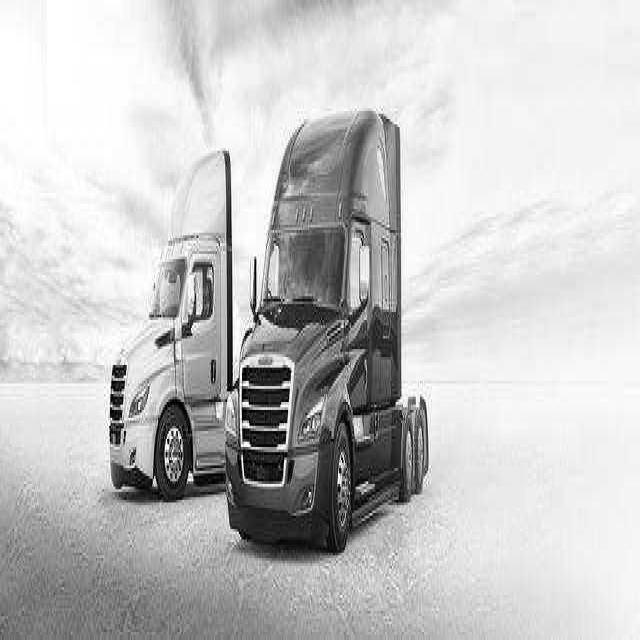Truck: (225, 109, 431, 551), (109, 152, 232, 499)
